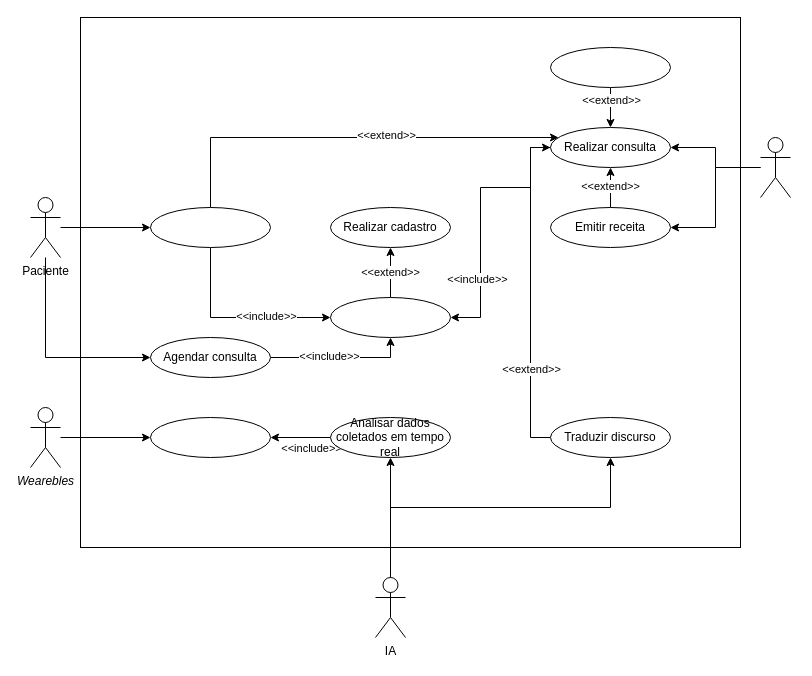
This 812x676 diagram has some shape labels left out. The shapes that lost their labels are listed below. From the top down, each one's box as (x1, y1, x2, y2) in pixels, then its label:
(550, 46, 670, 88): Realizar diagnóstico
(760, 136, 790, 198): Médico
(150, 206, 270, 248): Realizar upload de exames
(330, 296, 450, 338): Realizar login
(150, 416, 270, 458): Realizar upload de dados
